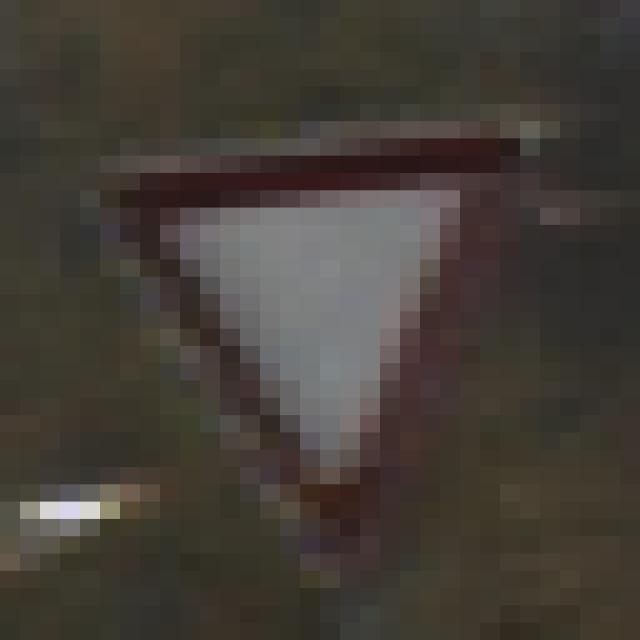Give Way: (101, 105, 541, 554)
